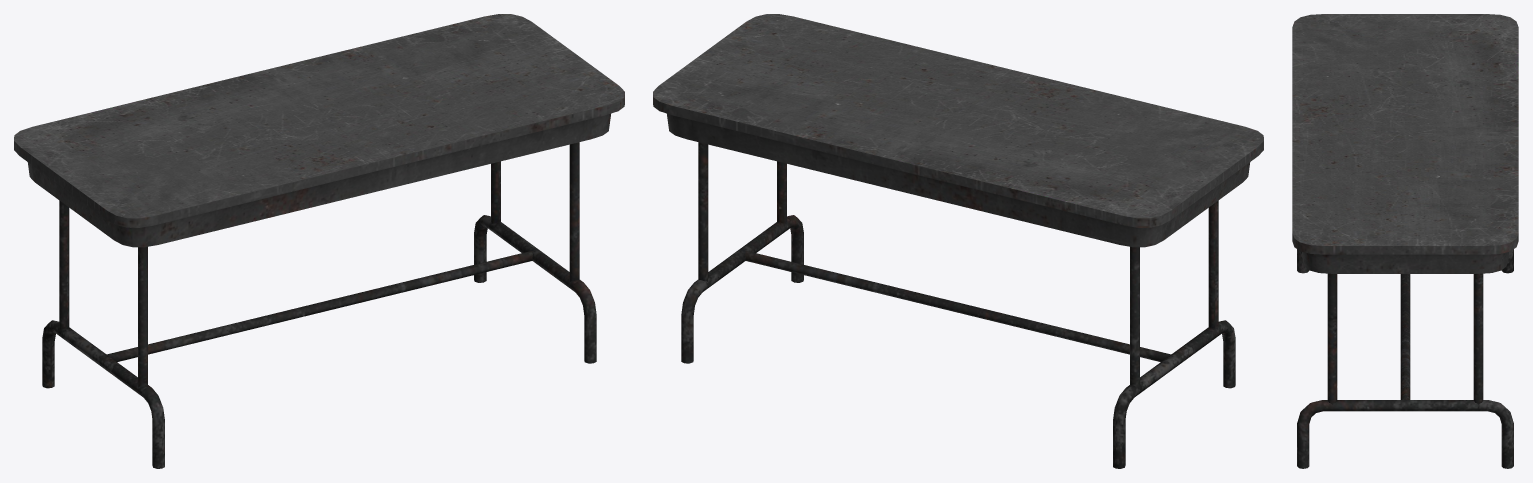
File: Table.FBX
The picture shows the model from 3 angles, left to right: view 1: azimuth 30°, elevation 25°; view 2: azimuth 150°, elevation 25°; view 3: azimuth 270°, elevation 25°; orthographic projection. The views are drawn at different scales.
Parts seen in each view (by area): view 1: Table; view 2: Table; view 3: Table.
Boxes of the visible parts, x1,y1,x2,y2 form: Table: (14, 14, 624, 468); Table: (653, 14, 1263, 468); Table: (1292, 14, 1518, 468).
Bounding box in the file's own units: 190 × 91.09 × 78.25.
